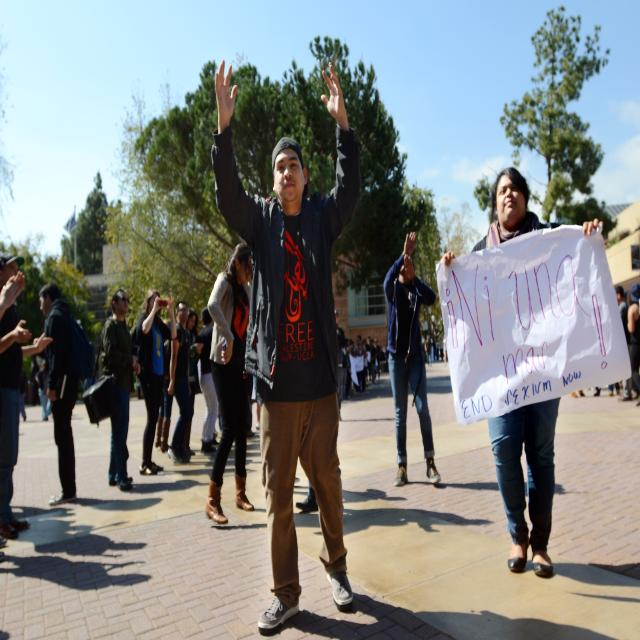body: (206, 61, 371, 632), (439, 162, 604, 579), (276, 593, 626, 640), (381, 228, 442, 488), (207, 237, 261, 525), (0, 252, 53, 541), (33, 282, 96, 506), (0, 504, 150, 597), (82, 283, 138, 493), (128, 288, 178, 478), (402, 452, 566, 496), (323, 504, 493, 540), (166, 298, 193, 466), (196, 306, 219, 454), (539, 558, 640, 590), (180, 305, 200, 458), (154, 316, 174, 454), (0, 270, 30, 354), (614, 285, 634, 402), (350, 336, 387, 394), (336, 473, 403, 502), (626, 282, 640, 408), (72, 493, 165, 509), (334, 308, 346, 422), (124, 476, 203, 491), (34, 359, 51, 422), (296, 476, 318, 515), (176, 468, 254, 477), (246, 429, 260, 467), (424, 334, 434, 367), (349, 416, 396, 422), (443, 332, 448, 367)
